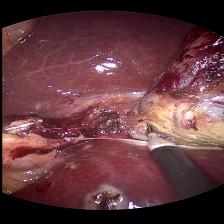Hook: (134, 124, 184, 158)
